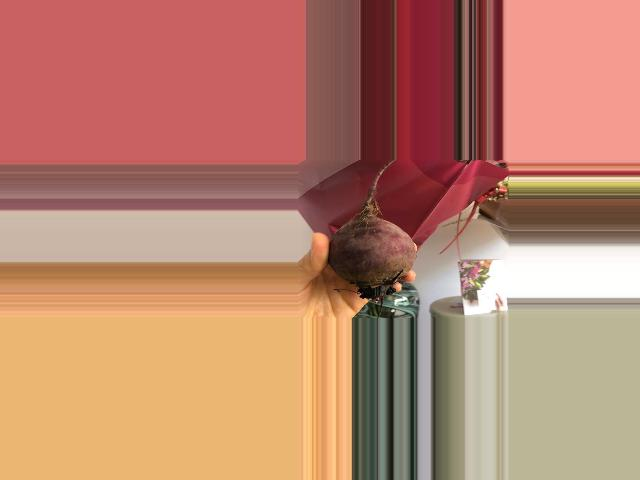beet: (328, 160, 416, 318)
